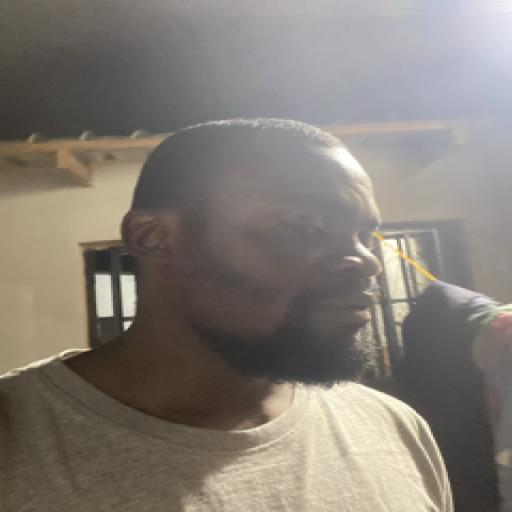JEANLUC: (106, 102, 414, 404)
